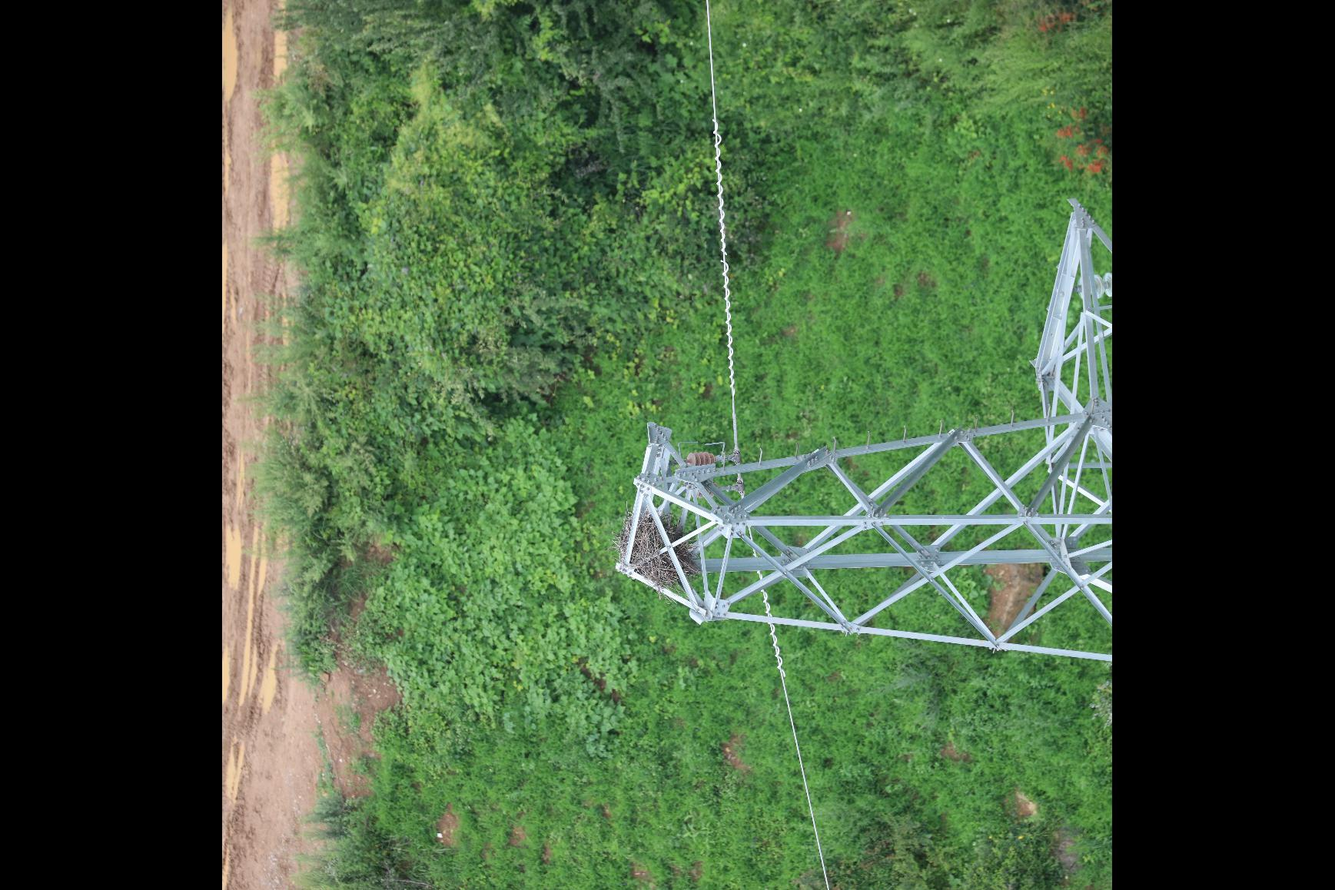nest: (613, 504, 703, 593)
